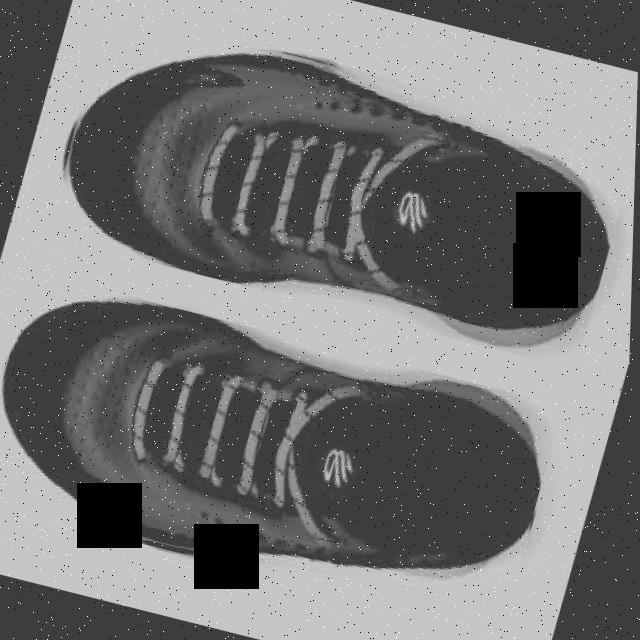shoe: (37, 1, 640, 368), (0, 271, 569, 634)
